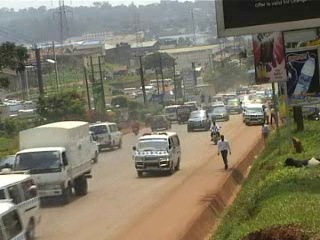Car: (185, 106, 212, 133), (148, 112, 173, 132), (221, 98, 244, 113), (210, 105, 229, 123)
Motorcycle: (208, 118, 221, 145), (129, 116, 140, 138)
